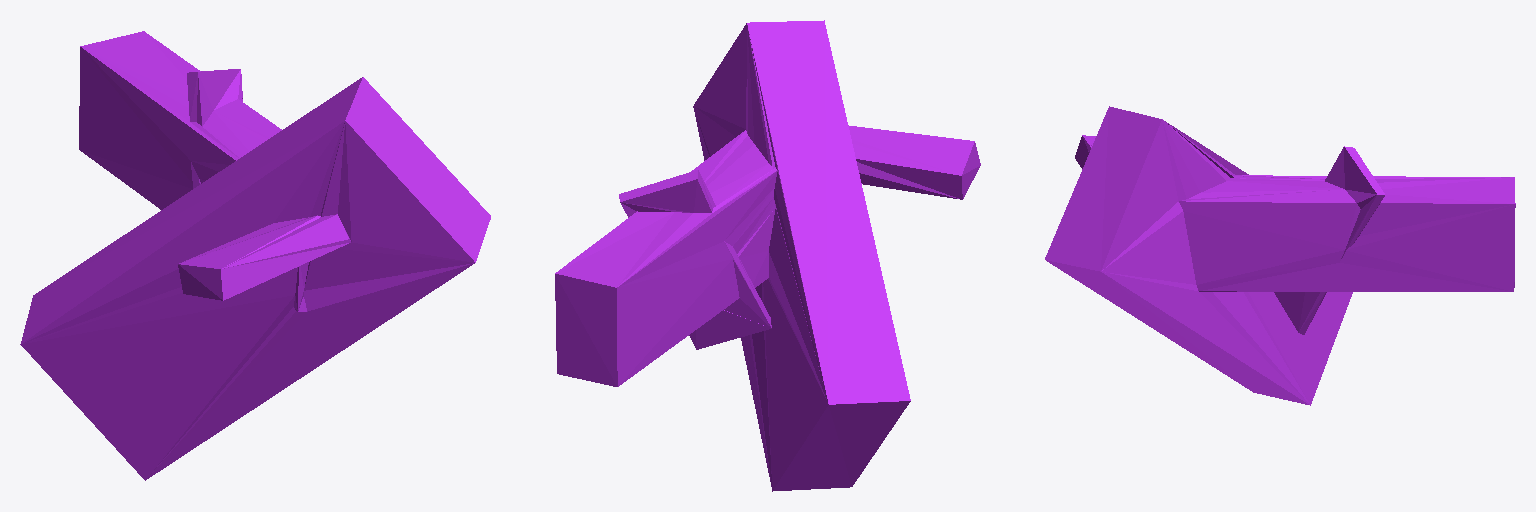
URDF robot description (blob738):

<robot name="blob738">
  <link name="random_obj_738">
    <contact>
      <lateral_friction value="1.0"/>
      <rolling_friction value="0.0"/>
      <inertia_scaling value="3.0"/>
      <contact_cfm value="0.0"/>
      <contact_erp value="1.0"/>
    </contact>
    <inertial>
      <origin rpy="0 0 0" xyz="0 0 0"/>
      <mass value="0.1097"/>
      <inertia ixx="1" ixy="0" ixz="0" iyy="1" iyz="0" izz="0"/>
    </inertial>
    <visual>
      <origin rpy="0 0 0" xyz="0 0 0"/>
      <geometry>
        <mesh filename="738.obj" scale="0.0084 0.0084 0.0084"/>
      </geometry>
      <material name="blockmat">
        <color rgba="0.79 0.27 0.97 1"/>
      </material>
    </visual>
    <collision>
      <origin rpy="0 0 0" xyz="0 0 0"/>
      <geometry>
        <mesh filename="738_coll.obj" scale="0.0084 0.0084 0.0084"/>
      </geometry>
    </collision>
  </link>
</robot>

--- What the picture shows (computed from the rendered views, not written in the file) ---
The picture shows the robot from 3 angles, left to right: view 1: azimuth 30°, elevation 25°; view 2: azimuth 150°, elevation 25°; view 3: azimuth 270°, elevation 25°; orthographic projection.
Robot: blob738 — 1 links, 0 joints (none); root link random_obj_738; default pose: all joints at 0.
Visible links, largest first — view 1: random_obj_738; view 2: random_obj_738; view 3: random_obj_738.
Boxes of the visible links, x1=… form: random_obj_738: x1=20, y1=31, x2=490, y2=480; random_obj_738: x1=555, y1=20, x2=980, y2=491; random_obj_738: x1=1045, y1=106, x2=1515, y2=405.
Bounding box of the posed robot: 0.0916 × 0.127 × 0.1014 m (x, y, z).
Meshes: 1 distinct files referenced, 1 mesh visuals loaded (1 OBJ).
